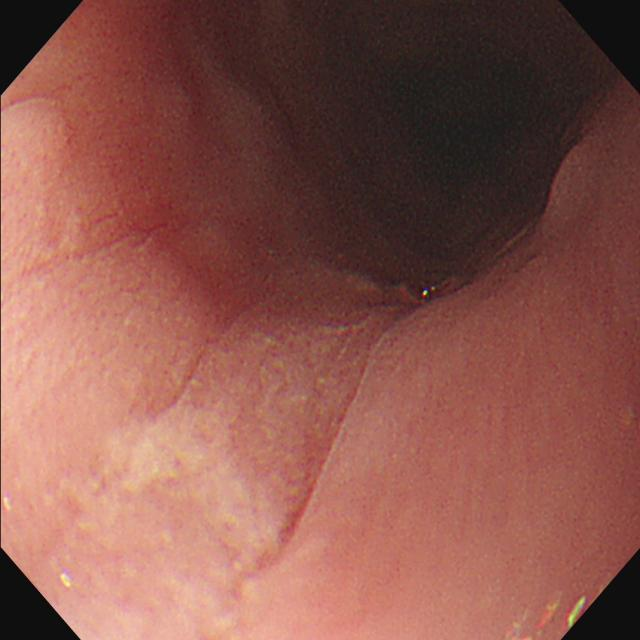E: (276, 2, 575, 282)
